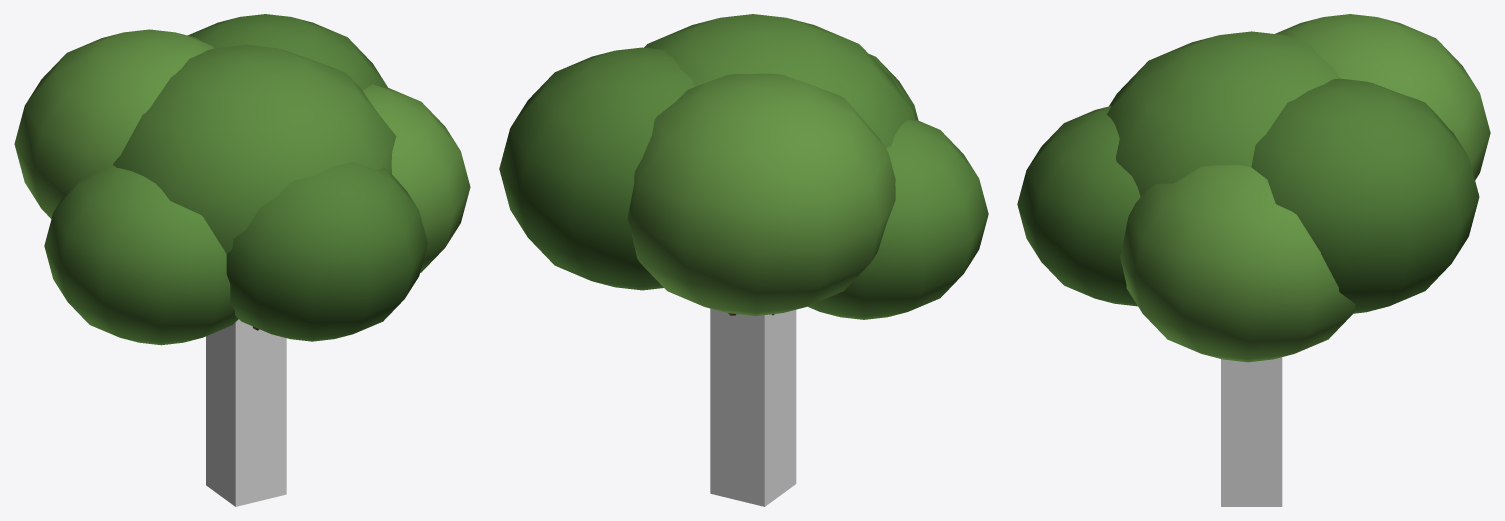
The model's file is roble_grande.glb.
3 renders of one model, left to right at view 1: azimuth 30°, elevation 25°; view 2: azimuth 150°, elevation 25°; view 3: azimuth 270°, elevation 25°, orthographic. The views are drawn at different scales.
Parts seen in each view (by area): view 1: roble_grande_Malla, COL_0; view 2: roble_grande_Malla, COL_0; view 3: roble_grande_Malla, COL_0.
Boxes of the visible parts, x1=… form: roble_grande_Malla: x1=14, y1=14, x2=470, y2=345; COL_0: x1=206, y1=319, x2=286, y2=506; roble_grande_Malla: x1=499, y1=14, x2=988, y2=319; COL_0: x1=710, y1=308, x2=796, y2=506; roble_grande_Malla: x1=1017, y1=14, x2=1490, y2=362; COL_0: x1=1221, y1=357, x2=1282, y2=506.
Bounding box in the file's own units: 8.48 × 8.65 × 8.34.
